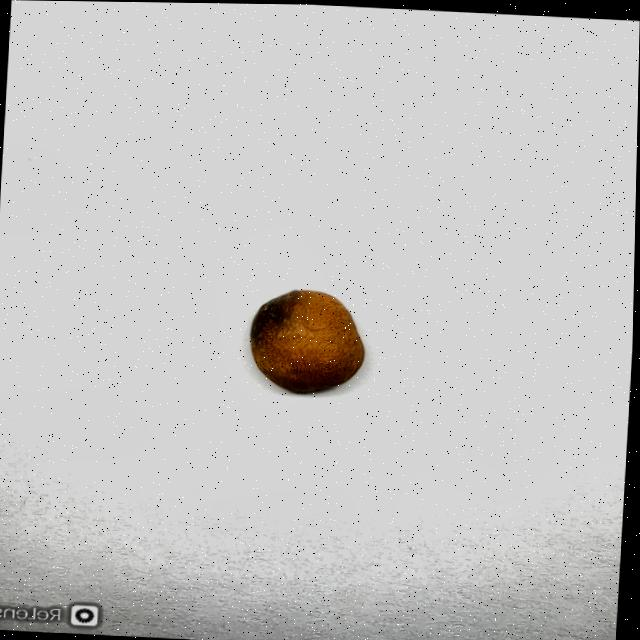Scorched: (246, 284, 372, 396)
